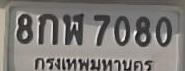0: (113, 15, 130, 45), (155, 16, 171, 46)
7: (93, 14, 109, 45)
8: (134, 15, 150, 46), (16, 13, 32, 43)
A01: (37, 13, 57, 44)
A42: (62, 13, 83, 45)
BKK: (31, 54, 157, 71)
